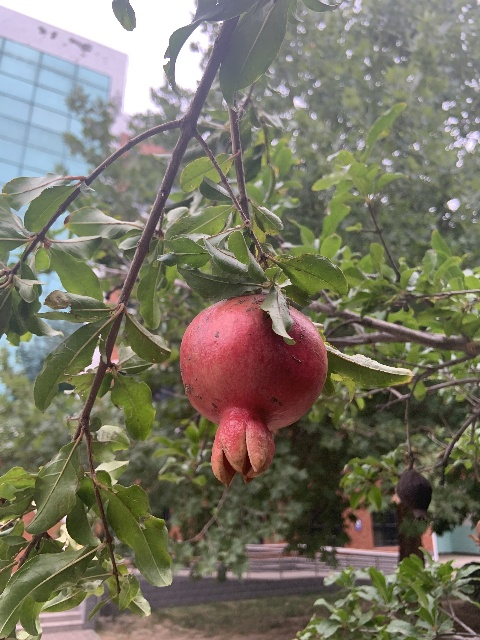ripe: (179, 293, 327, 486)
